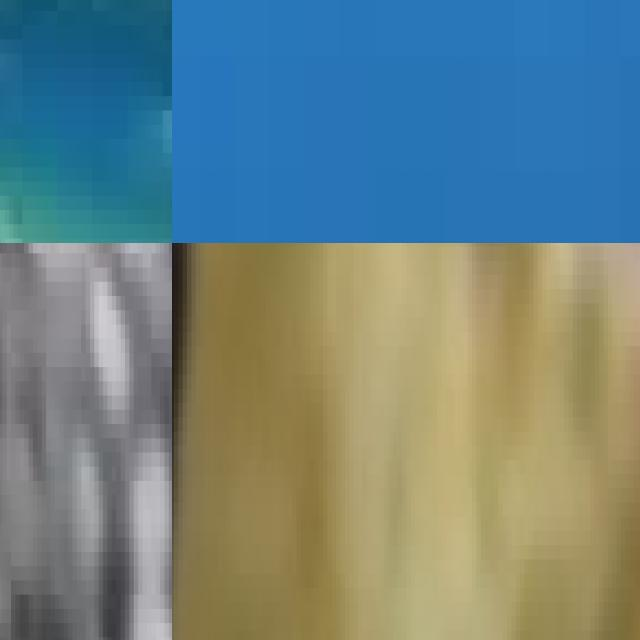fish: (172, 243, 586, 640), (0, 0, 172, 243)
